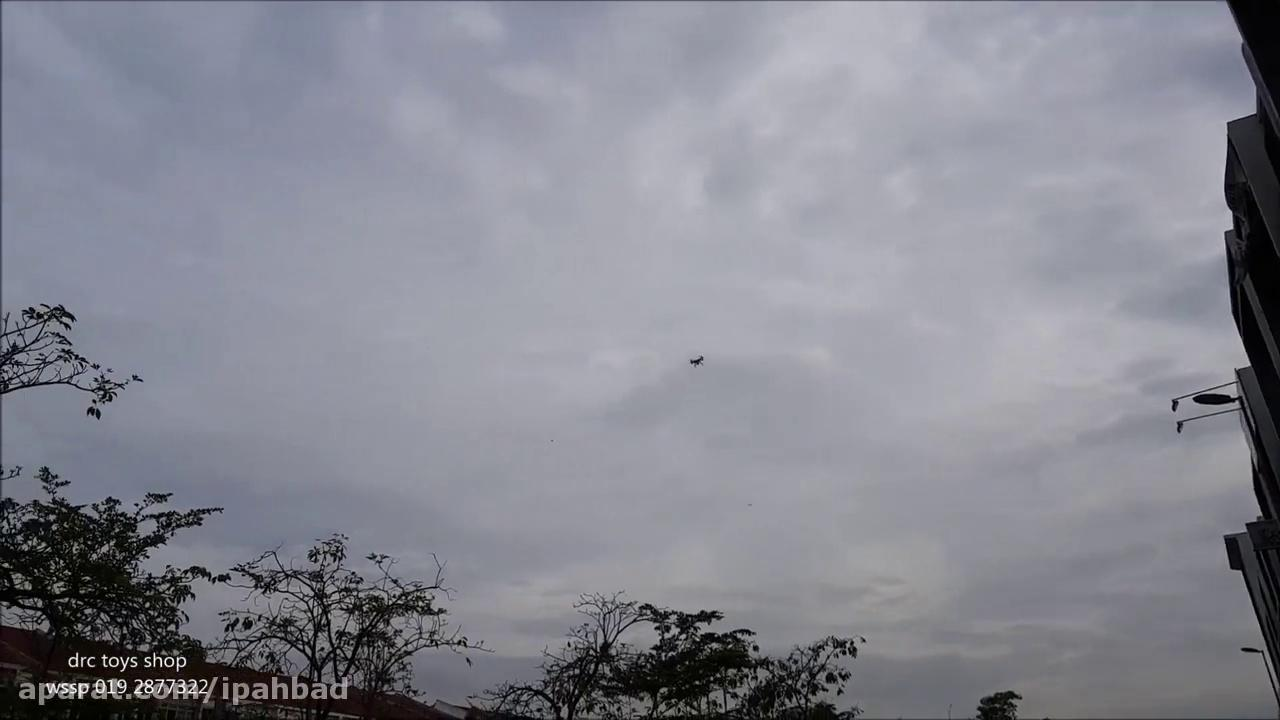drone: (684, 351, 709, 371)
